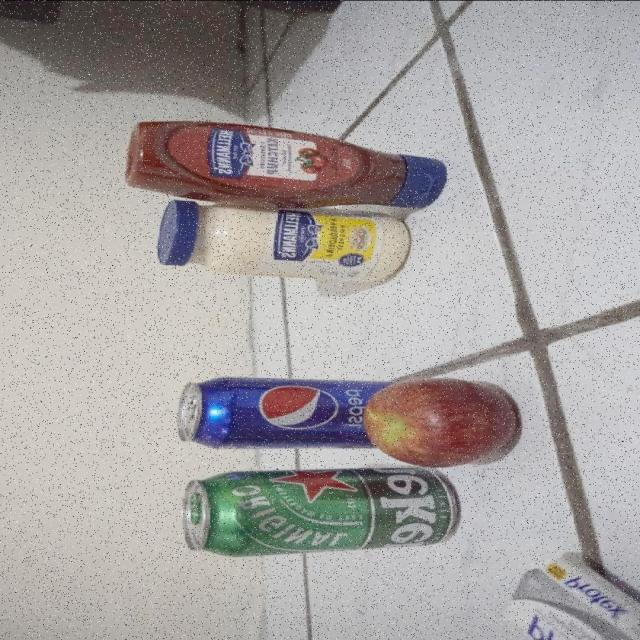Apple: (360, 376, 516, 468)
BeerCan: (181, 466, 461, 558)
Ketchup: (123, 120, 447, 208)
Mayonnaise: (154, 199, 410, 280)
Soap: (503, 555, 640, 640)
SodaCan: (176, 374, 421, 450)
